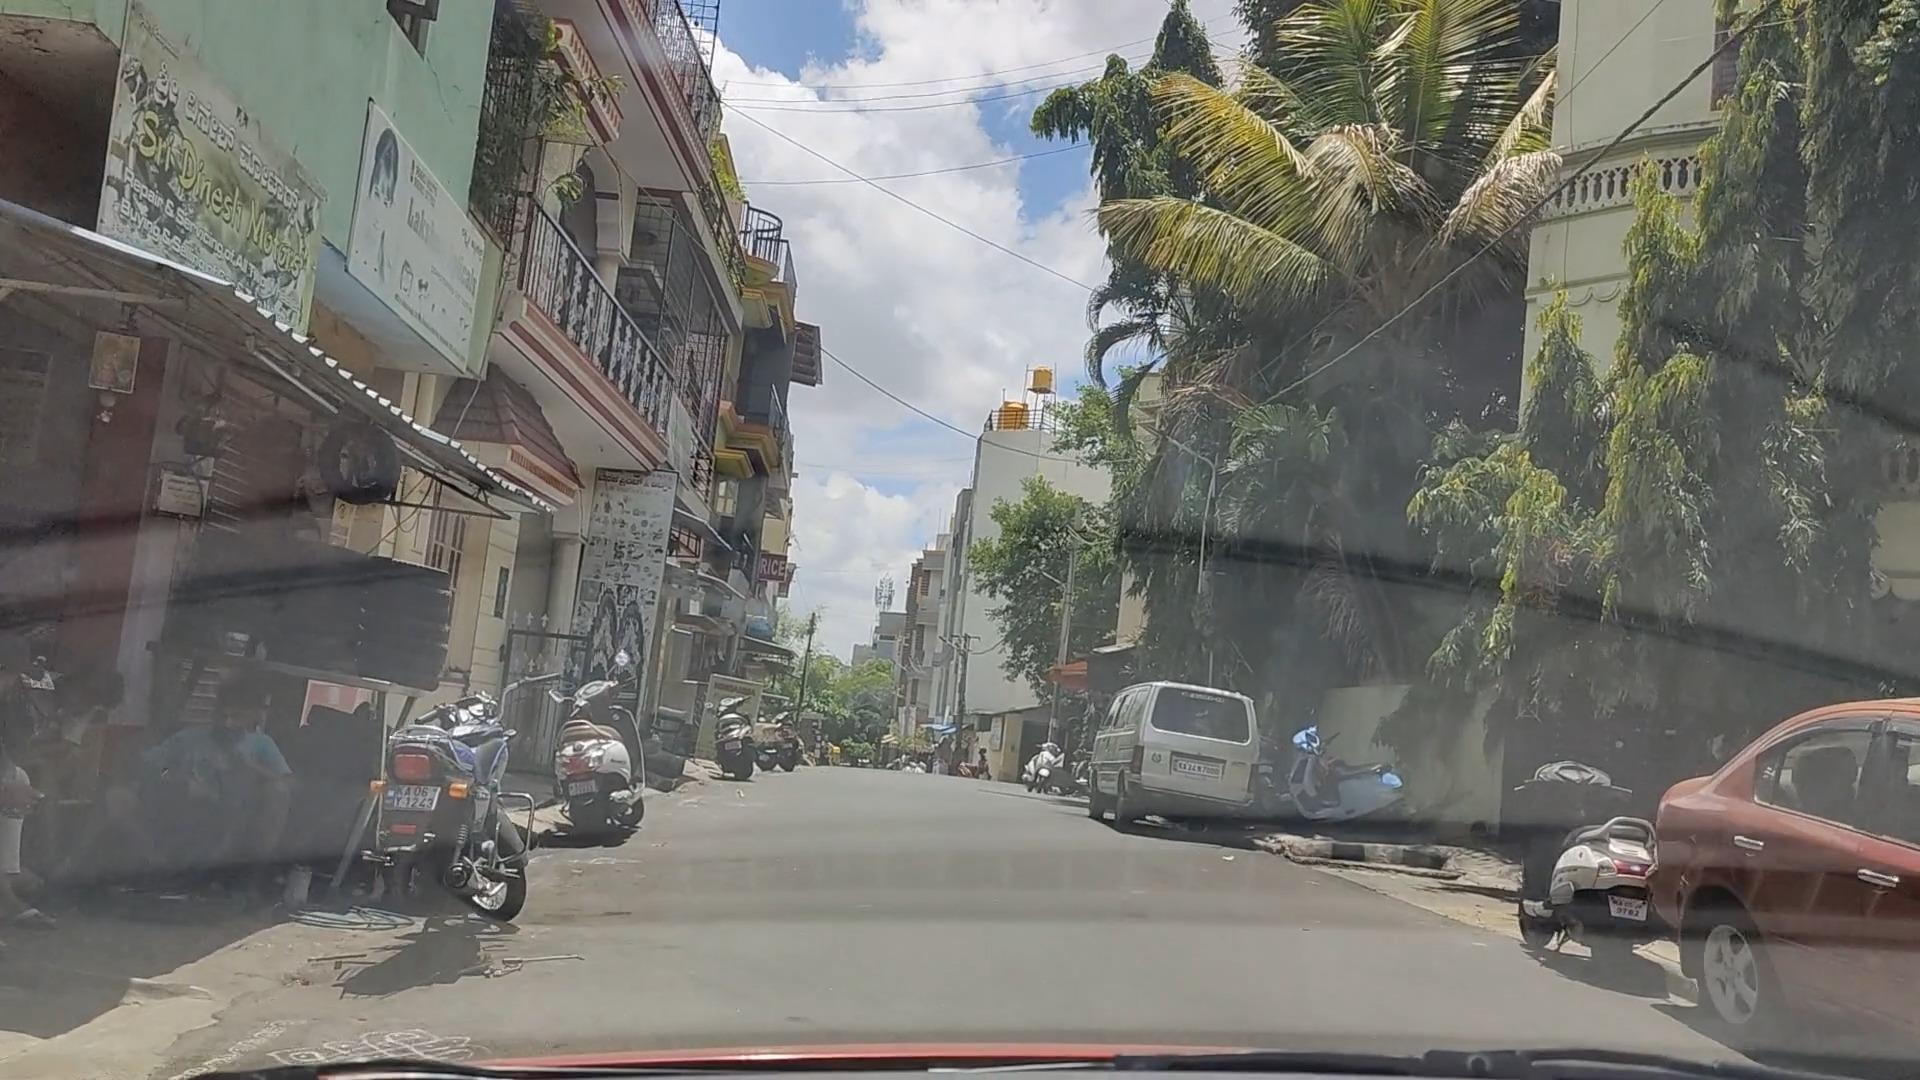LMV: (364, 695, 524, 943), (1077, 671, 1267, 843)
